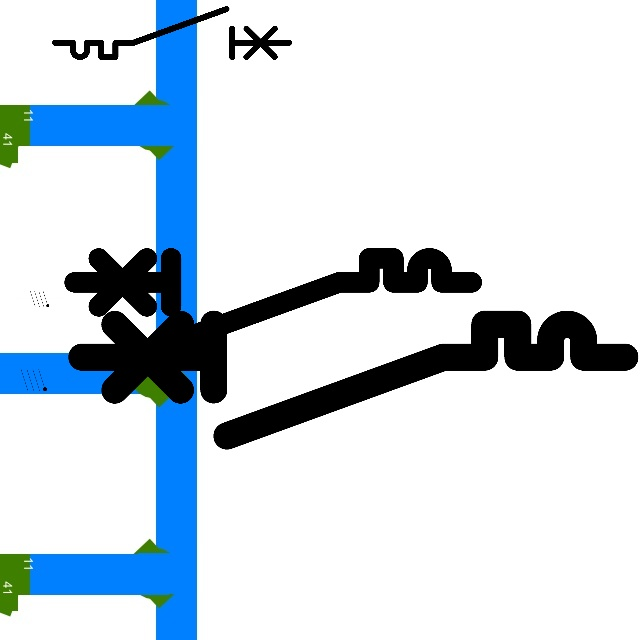interruptor_termomagnetico: (67, 310, 638, 450), (64, 248, 481, 350), (49, 3, 295, 63)
